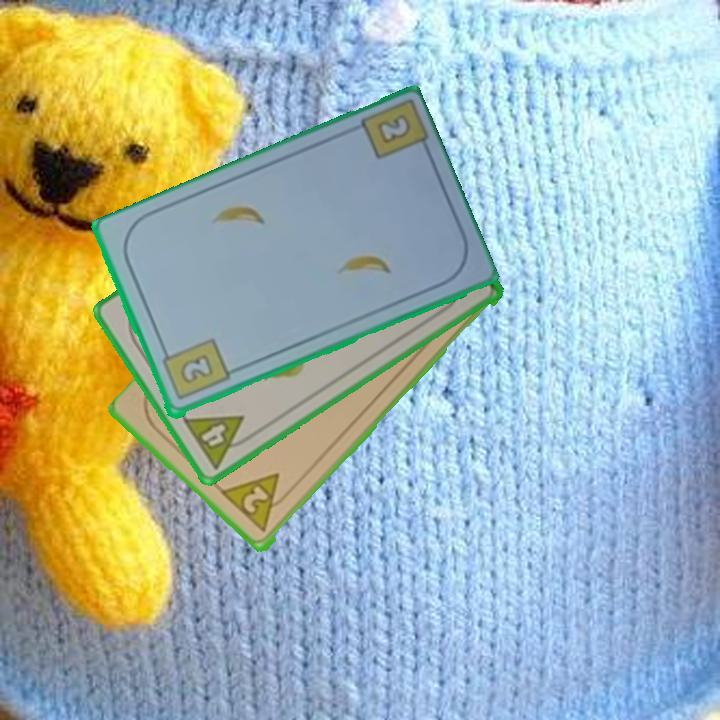2b: (158, 335, 232, 404), (373, 111, 414, 148)
2p: (219, 470, 295, 536)
4p: (179, 411, 258, 472)
